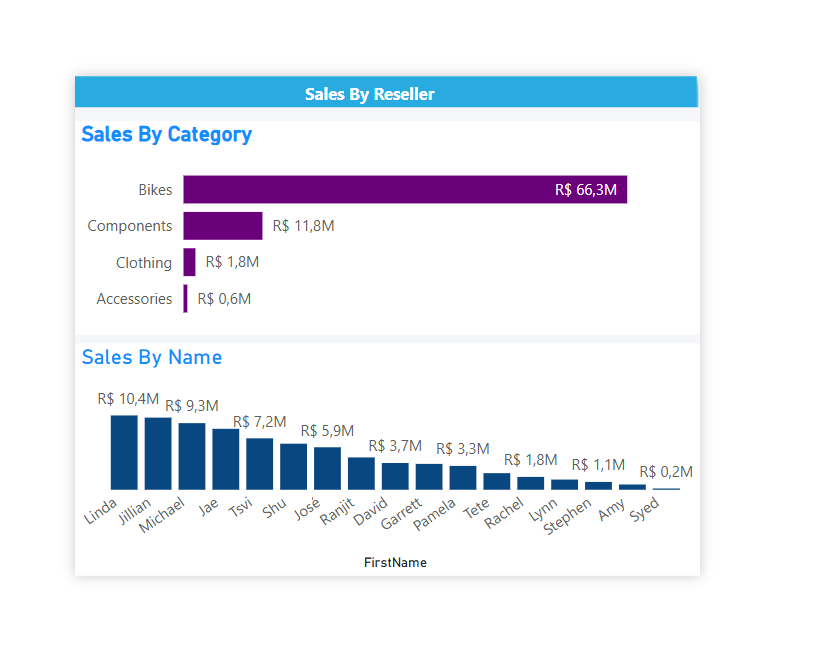

What the dashboard file says about the page in this screenshot:
{"tool":"powerbi","page":{"name":"tooltip 1","canvas":[500,400],"ordinal":1},"visuals":[{"type":"clusteredColumnChart","title":"Sales By Name","fields":{"Y":["Sum(FactResellerSales.SalesAmount)"],"Category":["FactResellerSales.FirstName"]},"box":[0,214,500,186],"z":0},{"type":"barChart","title":"Sales By Category","fields":{"Y":["Sum(FactResellerSales.SalesAmount)"],"Category":["DimProduct.EnglishProductCategoryName"]},"box":[0,36,500,171],"z":1000},{"type":"textbox","box":[179,0,143,36],"z":2000}]}

Visuals, with their boxes in screenshot pixels (x1, y1, x2, y2), scaled from the page's 500x400 canvas onto the 826x655 screenshot:
"Sales By Name" clusteredColumnChart: rect(0, 350, 825, 654)
"Sales By Category" barChart: rect(0, 59, 825, 339)
textbox: rect(296, 0, 532, 59)
